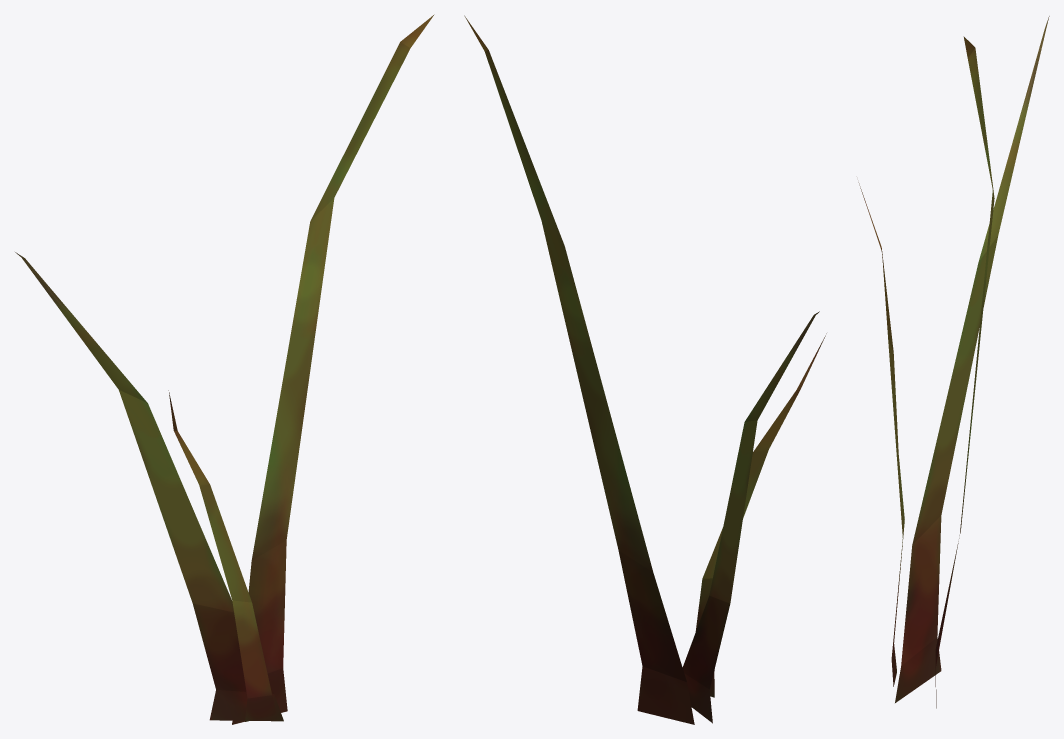
File: Medium_grass.fbx
3 views of the same model, side by side, from view 1: azimuth 30°, elevation 25°; view 2: azimuth 150°, elevation 25°; view 3: azimuth 270°, elevation 25° (orthographic). The views are drawn at different scales.
Parts seen in each view (by area): view 1: Medium_grass_001; view 2: Medium_grass_001; view 3: Medium_grass_001.
Part boxes in pixels (x1,y1,x2,y2): Medium_grass_001: [15, 14, 434, 724]; Medium_grass_001: [464, 15, 826, 724]; Medium_grass_001: [858, 16, 1049, 708].
Bounding box in the file's own units: 320 × 517 × 116.
